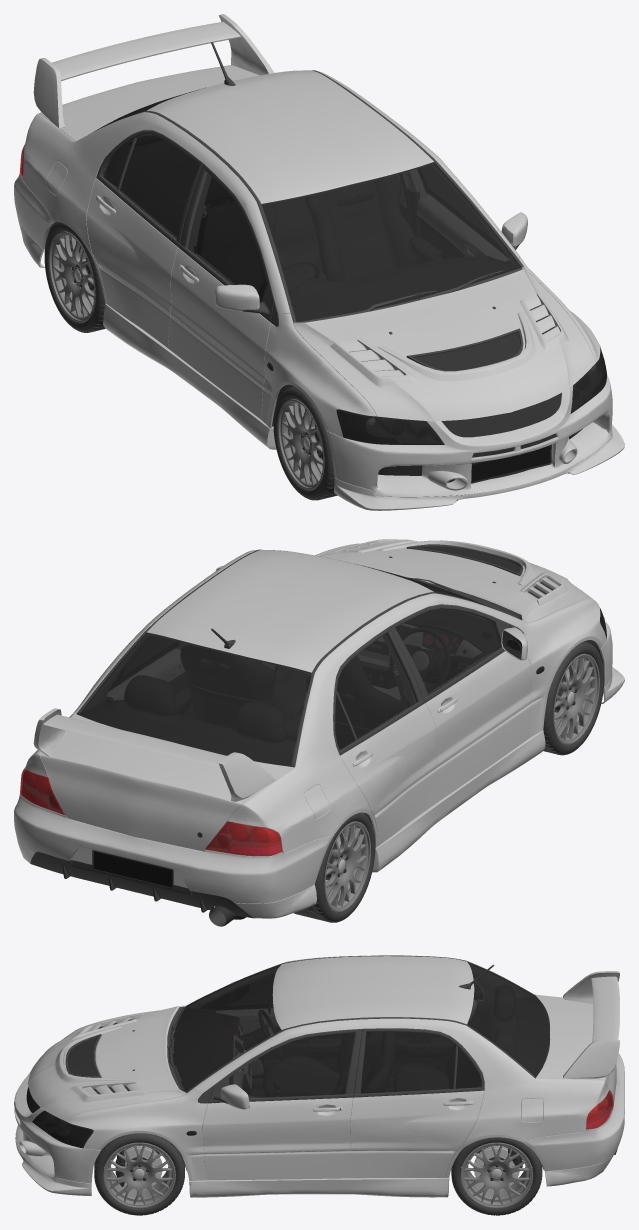
The model's file is arasset_2473c5ac.glb.
3 renders of one model, top to bottom at view 1: azimuth 30°, elevation 25°; view 2: azimuth 150°, elevation 25°; view 3: azimuth 270°, elevation 25°, orthographic. The views are drawn at different scales.
Visible parts, largest first — view 1: car body, w2, w4; view 2: car body, w2, w4; view 3: car body, w1, w3.
Boxes of the visible parts, bbox=[...] form: car body: bbox=[14, 14, 624, 510]; w2: bbox=[273, 386, 337, 500]; w4: bbox=[44, 222, 105, 332]; car body: bbox=[14, 539, 624, 926]; w2: bbox=[543, 641, 604, 755]; w4: bbox=[294, 812, 375, 922]; car body: bbox=[14, 955, 624, 1197]; w1: bbox=[94, 1133, 184, 1215]; w3: bbox=[451, 1137, 542, 1215].
Bounding box in the file's own units: 4.72 × 3.71 × 10.28.
